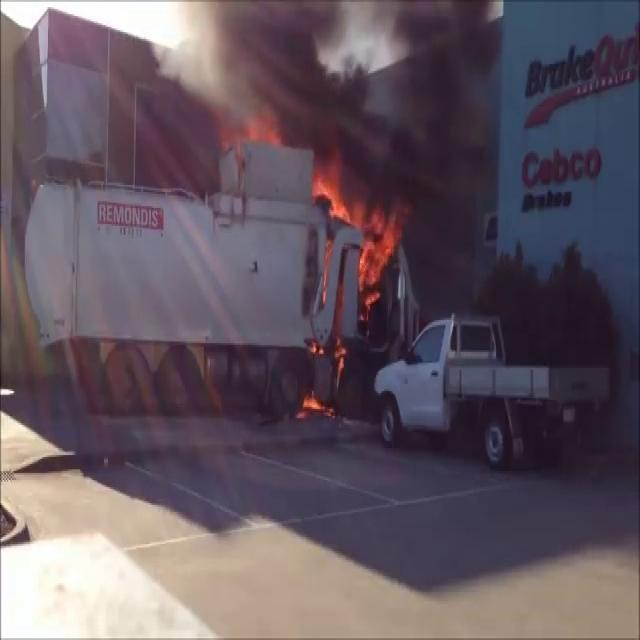Fire: (310, 160, 400, 311)
Smoke: (202, 0, 509, 233)
